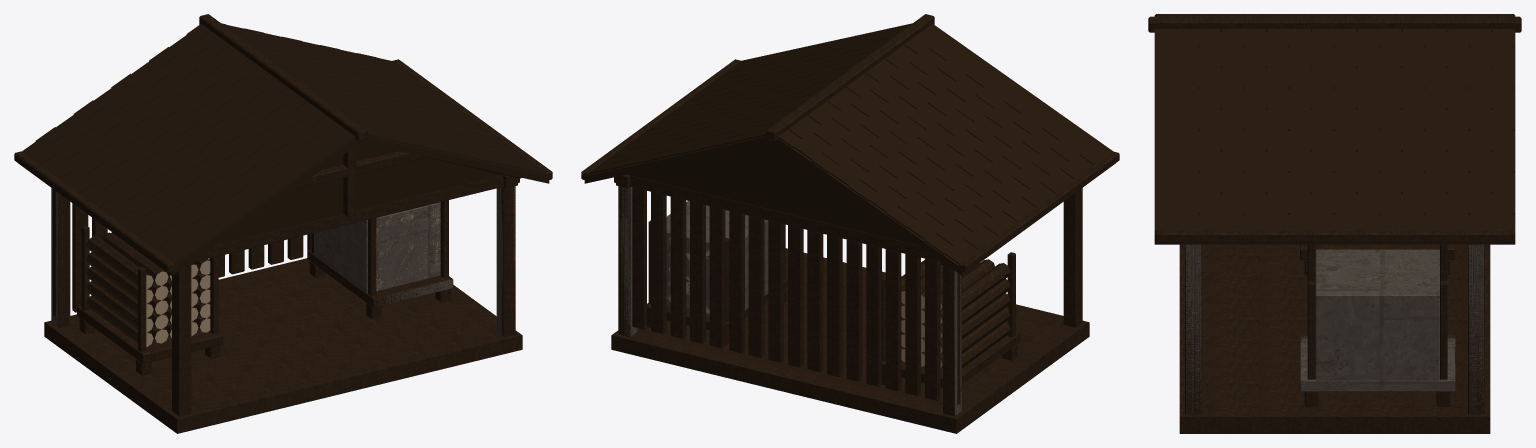
File: s_wood_store.glb
The picture shows the model from 3 angles, left to right: view 1: azimuth 30°, elevation 25°; view 2: azimuth 150°, elevation 25°; view 3: azimuth 270°, elevation 25°; orthographic projection. The views are drawn at different scales.
Parts seen in each view (by area): view 1: floor, wood rack base, stacked split billet, stacked dry wood-colonly.001, load bearing shelter post-colonly.002, wood rack base-colonly.001, load bearing shelter post-colonly.001; view 2: floor, stacked split billet, wood rack base, stacked dry wood-colonly.001, load bearing shelter post-colonly.003, load bearing shelter post-colonly.001; view 3: floor, stacked dry wood-colonly.001, wood rack base, wood rack base-colonly.001, load bearing shelter post-colonly.002, load bearing shelter post-colonly.003.
Boxes of the visible parts, x1,y1,x2,y2 form: floor: (14,14,552,433); wood rack base: (77,200,452,375); stacked split billet: (87,205,440,347); stacked dry wood-colonly.001: (314,202,440,293); load bearing shelter post-colonly.002: (496,186,515,335); wood rack base-colonly.001: (307,253,453,306); load bearing shelter post-colonly.001: (51,188,69,326); floor: (581,14,1119,433); stacked split billet: (666,236,1010,368); wood rack base: (647,220,1020,387); stacked dry wood-colonly.001: (666,201,768,314); load bearing shelter post-colonly.003: (618,186,637,336); load bearing shelter post-colonly.001: (942,266,961,415); floor: (1148,14,1521,433); stacked dry wood-colonly.001: (1315,249,1439,380); wood rack base: (1300,244,1455,406); wood rack base-colonly.001: (1300,335,1455,391); load bearing shelter post-colonly.002: (1185,244,1201,414); load bearing shelter post-colonly.003: (1468,244,1484,414).
Size of what is drawn, in the model's own units: 6.7 by 4.49 by 4.8.
Materials: 3 (2 with a texture image).
